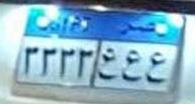3: (75, 44, 95, 79), (58, 46, 76, 79), (40, 44, 57, 77), (23, 44, 39, 76)
ain: (145, 49, 168, 89), (119, 45, 142, 84), (97, 46, 117, 83)
